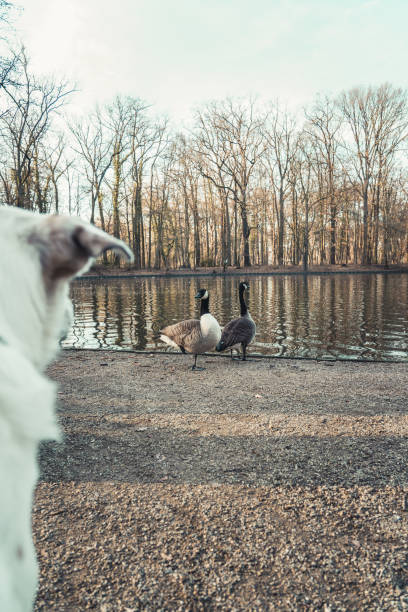goose: (151, 283, 222, 368), (212, 279, 259, 353)
